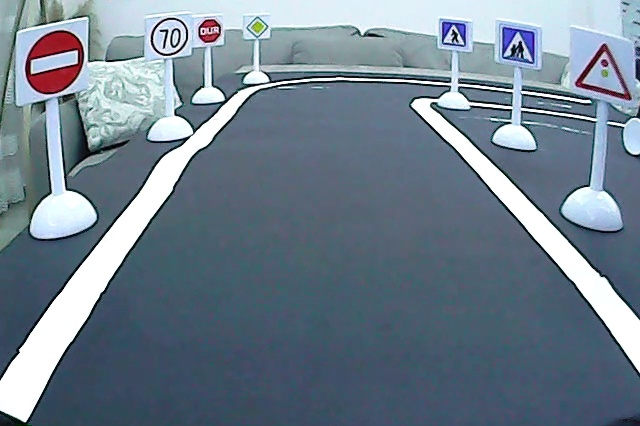do not enter: (22, 26, 89, 97)
pedestrian crossing: (439, 20, 469, 49)
red light: (574, 37, 635, 104)
school crossing: (499, 23, 539, 68)
speed limit 70: (148, 14, 189, 56)
stop sign: (195, 17, 224, 45)
